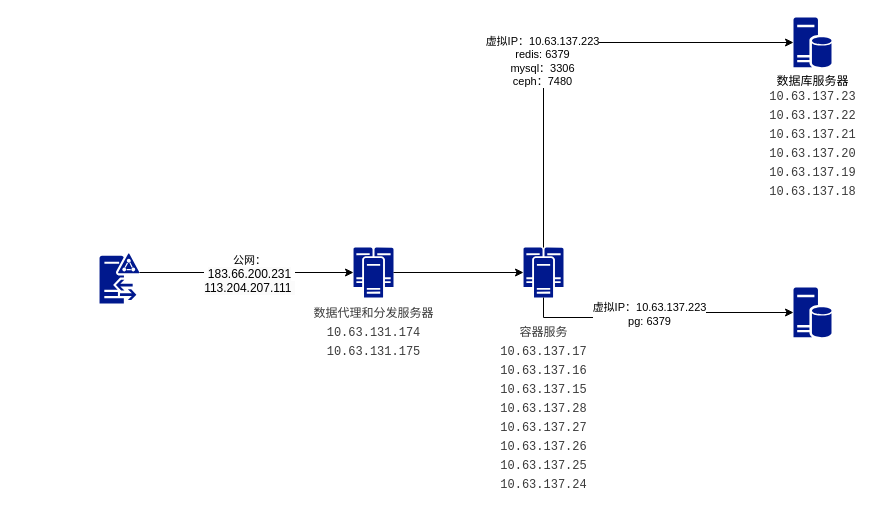
The diagram is 873 pixels wide and 512 high, and some of its shapes have lost their labels. Here are the shapes that lost their labels. From the top down, the centre of each, then its label:
At [119,278]: "外：183.66.200.231/113.204.207.111 内：10.63.131.221".
At [812,312]: "数据库服务器 10.63.137.31 10.63.137.30 10.63.137.29".
